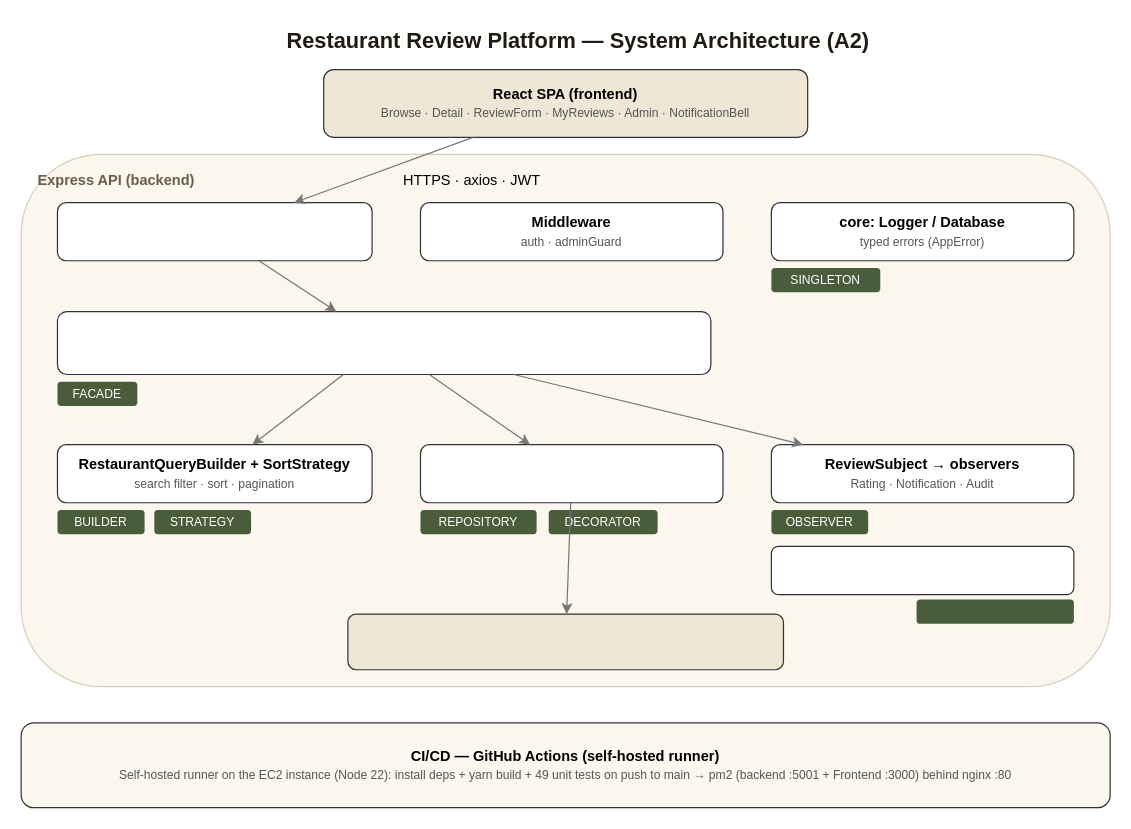
This 1131x829 diagram has some shape labels left out. Each missing label, with the centre of its shape:
FACTORY METHOD: point (994, 611)
MongoDB Atlas (Mongoose) users · restaurants · reviews · notifications: point (565, 641)
NotificationFactory: point (922, 570)
Repositories ( + LoggingDecorator ) Restaurant · Review · User · Notification: point (571, 473)
Routes → Controllers (thin): point (214, 231)
Services (RestaurantService · ReviewService · AuthService · NotificationService): point (383, 342)
